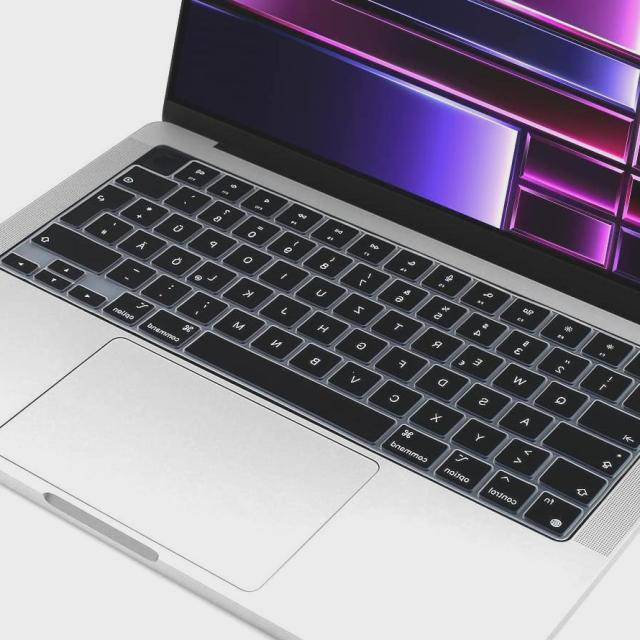0: (233, 213, 285, 243)
1: (580, 362, 637, 398)
2: (539, 344, 595, 379)
3: (497, 327, 553, 361)
4: (457, 309, 513, 343)
5: (417, 293, 473, 326)
6: (378, 276, 434, 308)
7: (341, 260, 395, 291)
8: (304, 243, 358, 275)
9: (268, 228, 322, 259)
a: (499, 399, 557, 437)
accent: (165, 184, 215, 212)
ae: (120, 228, 170, 258)
alt-left: (434, 447, 494, 489)
altgr-right: (103, 290, 159, 323)
b: (289, 341, 346, 375)
c: (369, 377, 427, 415)
caret: (622, 380, 640, 420)
comma: (177, 289, 231, 321)
d: (416, 362, 474, 400)
del: (116, 165, 182, 201)
e: (452, 343, 508, 378)
enter: (60, 182, 140, 226)
f: (376, 343, 432, 378)
g: (336, 326, 392, 361)
h: (299, 309, 352, 343)
hash: (85, 210, 136, 242)
i: (259, 257, 312, 289)
j: (260, 291, 314, 325)
k: (223, 274, 276, 306)
keyboard: (1, 139, 640, 548)
l: (190, 259, 240, 291)
less: (496, 436, 556, 475)
m: (214, 306, 270, 340)
minus: (107, 257, 159, 287)
n: (251, 323, 307, 357)
o: (223, 242, 276, 273)
oe: (154, 243, 204, 274)
p: (189, 226, 241, 257)
plus: (121, 196, 172, 224)
point: (142, 273, 194, 303)
q: (534, 380, 592, 416)
r: (412, 325, 468, 359)
s: (457, 381, 515, 417)
shift-left: (540, 454, 608, 505)
shift-lock: (543, 419, 632, 475)
shift-right: (32, 220, 128, 272)
space: (183, 324, 397, 446)
ss: (198, 197, 249, 227)
strg-left: (476, 468, 538, 514)
t: (372, 307, 428, 340)
tab: (579, 398, 640, 448)
u: (296, 273, 350, 305)
ue: (154, 211, 207, 241)
v: (328, 359, 386, 395)
w: (493, 360, 550, 396)
x: (409, 397, 468, 435)
y: (453, 417, 511, 455)
z: (333, 291, 389, 323)
